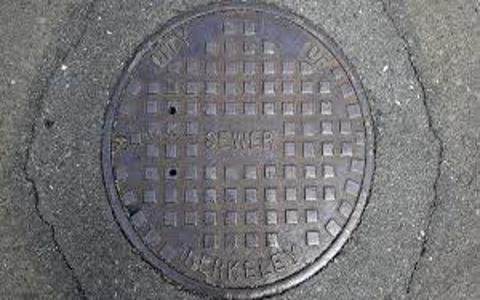proper manhole: (96, 2, 378, 295)
